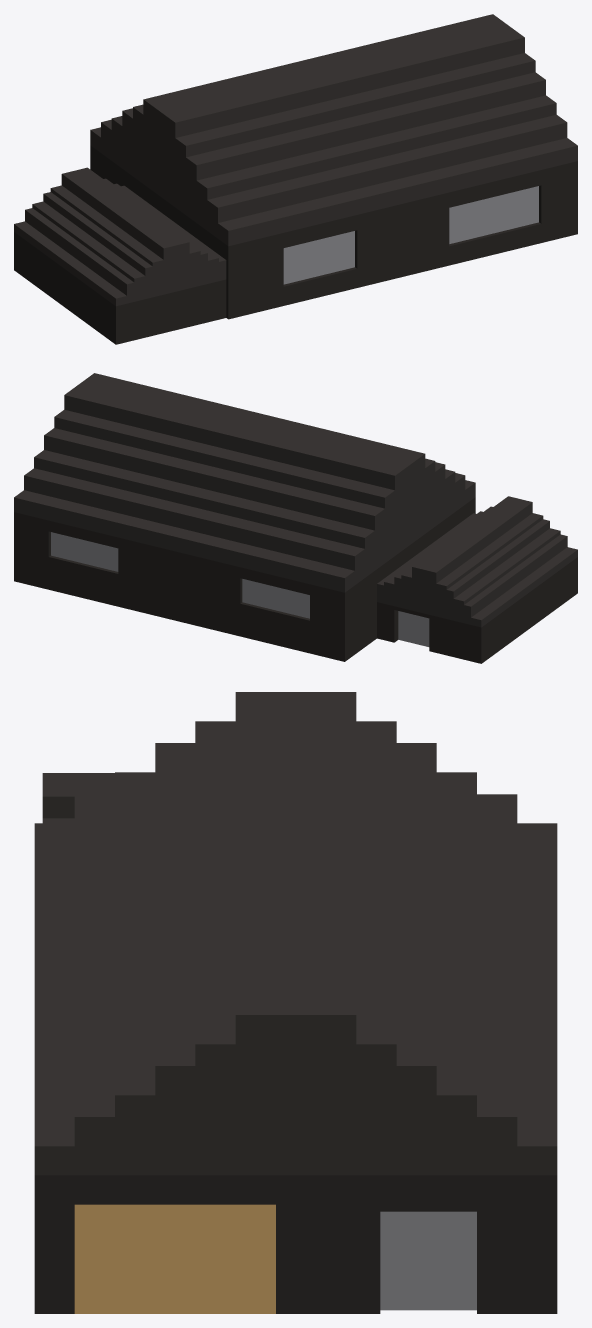
Rendered from Entrance_Building.obj.
The picture shows the model from 3 angles, top to bottom: view 1: azimuth 30°, elevation 25°; view 2: azimuth 150°, elevation 25°; view 3: azimuth 270°, elevation 25°; orthographic projection. The views are drawn at different scales.
Bounding box in the file's own units: 125 × 41 × 65.
